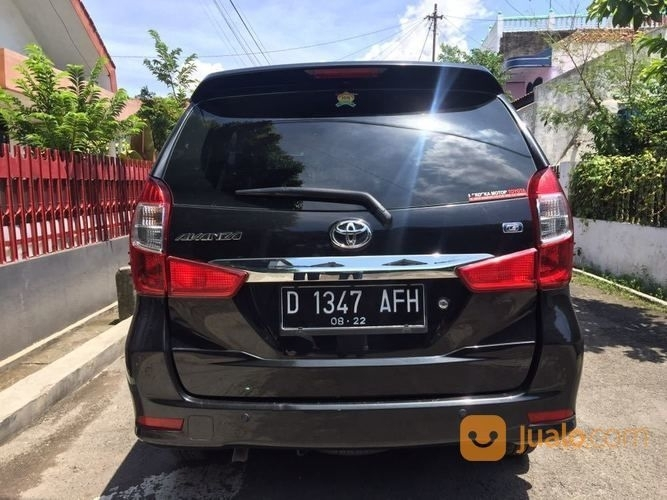plate: (281, 286, 425, 329)
